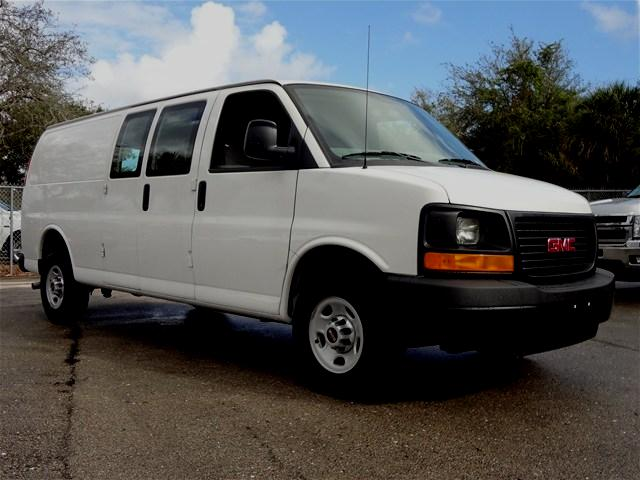GMC: (545, 230, 581, 258)
